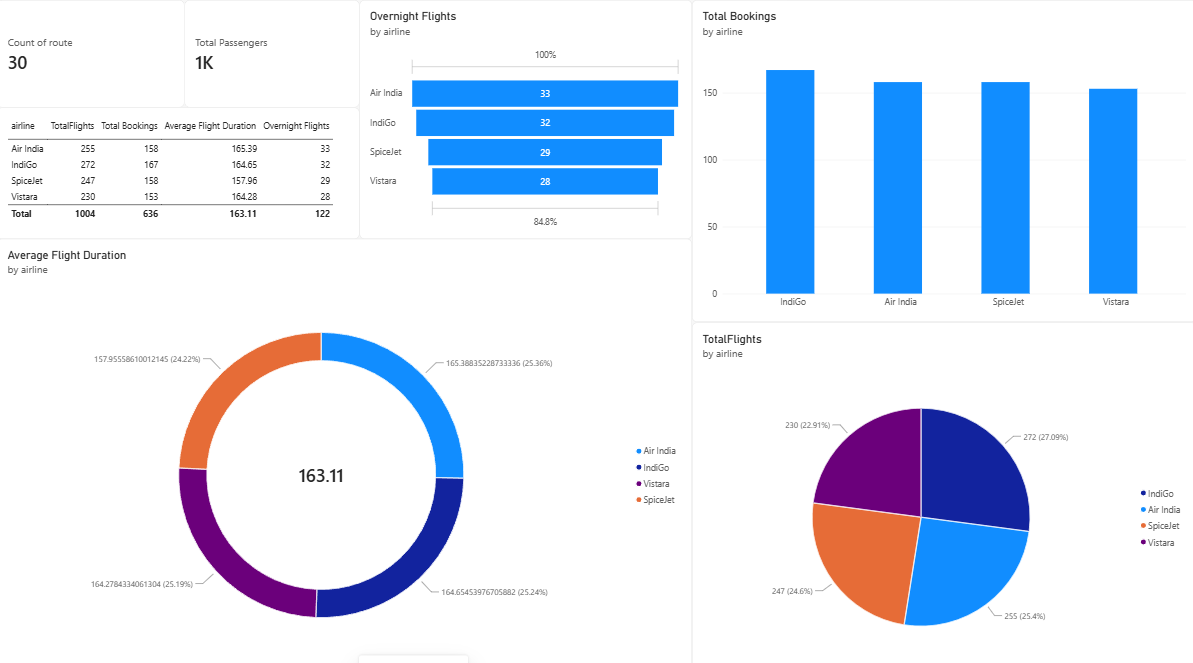

Layout of this report page (visuals, bound fields, positions):
{"tool":"powerbi","page":{"name":"Airline Trends","canvas":[1920,1080],"ordinal":3},"visuals":[{"type":"pieChart","fields":{"Category":["flights.airline"],"Y":["bookings.TotalFlights"]},"box":[1112.5,515,807.5,565],"z":0},{"type":"clusteredColumnChart","fields":{"Category":["flights.airline"],"Y":["bookings.Total Bookings"]},"box":[1112.5,0,807.5,515],"z":1000},{"type":"donutChart","fields":{"Category":["flights.airline"],"Y":["bookings.Average Flight Duration"]},"box":[0,382,1112,698],"z":2000},{"type":"funnel","fields":{"Category":["flights.airline"],"Y":["bookings.Overnight Flights"]},"box":[580,0,532,382],"z":3000},{"type":"tableEx","fields":{"Values":["flights.airline","bookings.TotalFlights","bookings.Total Bookings","bookings.Average Flight Duration","bookings.Overnight Flights"]},"box":[0,172,580,210],"z":4000},{"type":"cardVisual","fields":{"Data":["bookings.Total Passengers"]},"box":[300,0,280,172],"z":4001},{"type":"cardVisual","fields":{"Data":["Count(flights.route)"]},"box":[0,0,300,172],"z":4002}]}

Visuals, with their boxes in screenshot pixels (x1, y1, x2, y2), scaled from the page's 1920x1080 canvas onto the 1193x663 screenshot:
pieChart - flights.airline x bookings.TotalFlights: [left=691, top=316, right=1192, bottom=662]
clusteredColumnChart - flights.airline x bookings.Total Bookings: [left=691, top=0, right=1192, bottom=316]
donutChart - flights.airline x bookings.Average Flight Duration: [left=0, top=235, right=691, bottom=662]
funnel - flights.airline x bookings.Overnight Flights: [left=360, top=0, right=691, bottom=235]
tableEx - flights.airline x bookings.TotalFlights: [left=0, top=106, right=360, bottom=235]
cardVisual - bookings.Total Passengers: [left=186, top=0, right=360, bottom=106]
cardVisual - Count(flights.route): [left=0, top=0, right=186, bottom=106]
